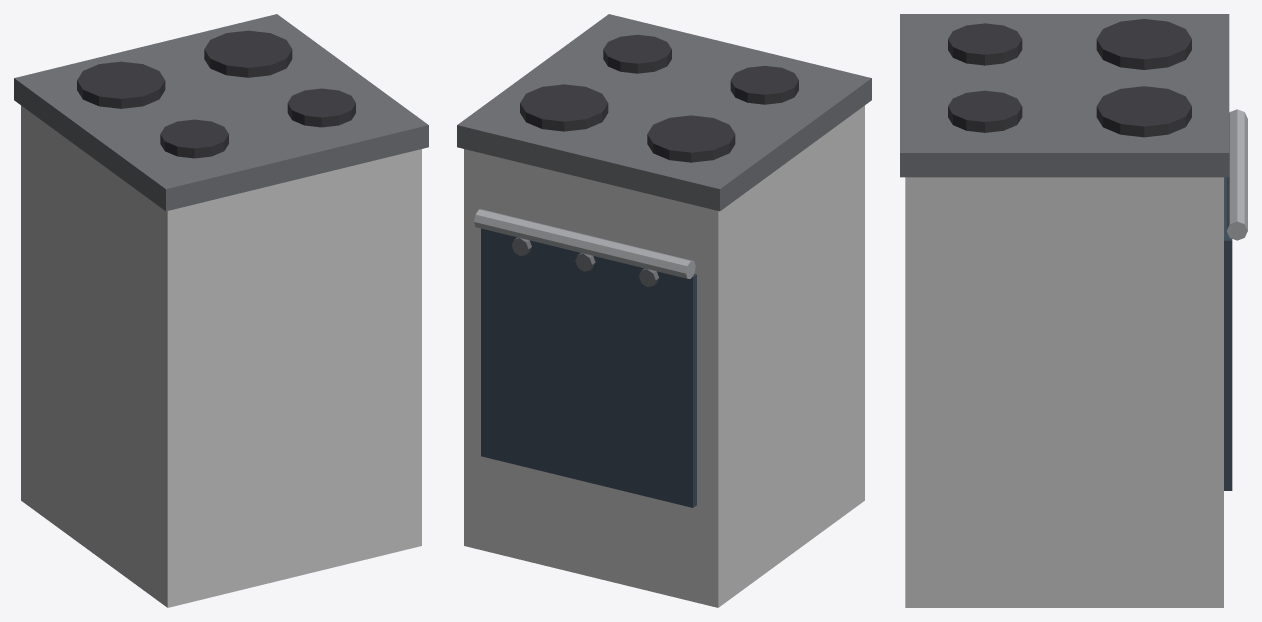
File: eld_fogao_4b.glb
3 renders of one model, left to right at view 1: azimuth 30°, elevation 25°; view 2: azimuth 150°, elevation 25°; view 3: azimuth 270°, elevation 25°, orthographic. The views are drawn at different scales.
Parts seen in each view (by area): view 1: ELD_FOGAO_4B_v01; view 2: ELD_FOGAO_4B_v01; view 3: ELD_FOGAO_4B_v01.
Part boxes in pixels (x1,y1,x2,y2): ELD_FOGAO_4B_v01: (14,14,428,607); ELD_FOGAO_4B_v01: (457,14,871,607); ELD_FOGAO_4B_v01: (900,14,1247,607).
Size of the model in its own units: 0.62 by 0.9725 by 0.655.
